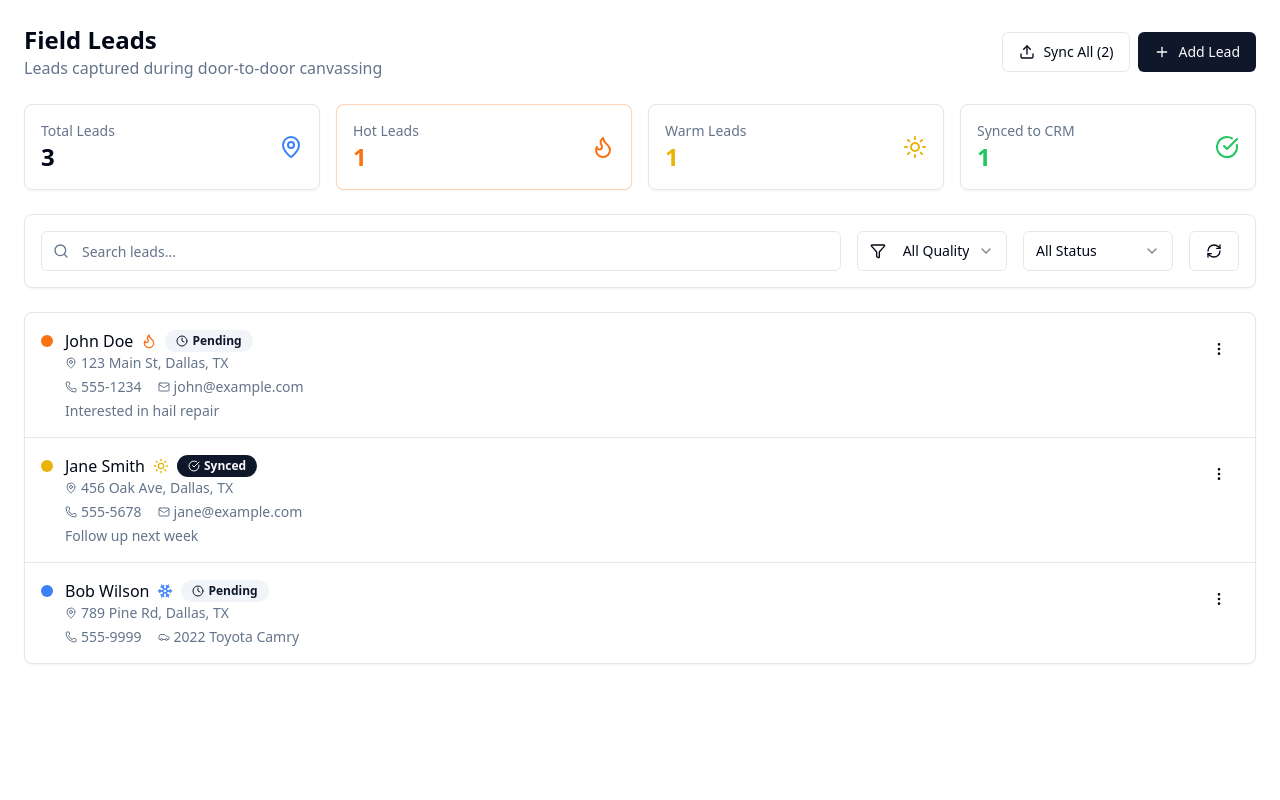
it: FieldLeadsPage › Search Functionality › filters leads by address
Expected: the text "John Doe" is shown, [65,329,133,353]
Step 1. Type "Oak" into the field with placeholder "Search leads..." → (441,251), box [41,231,841,271]
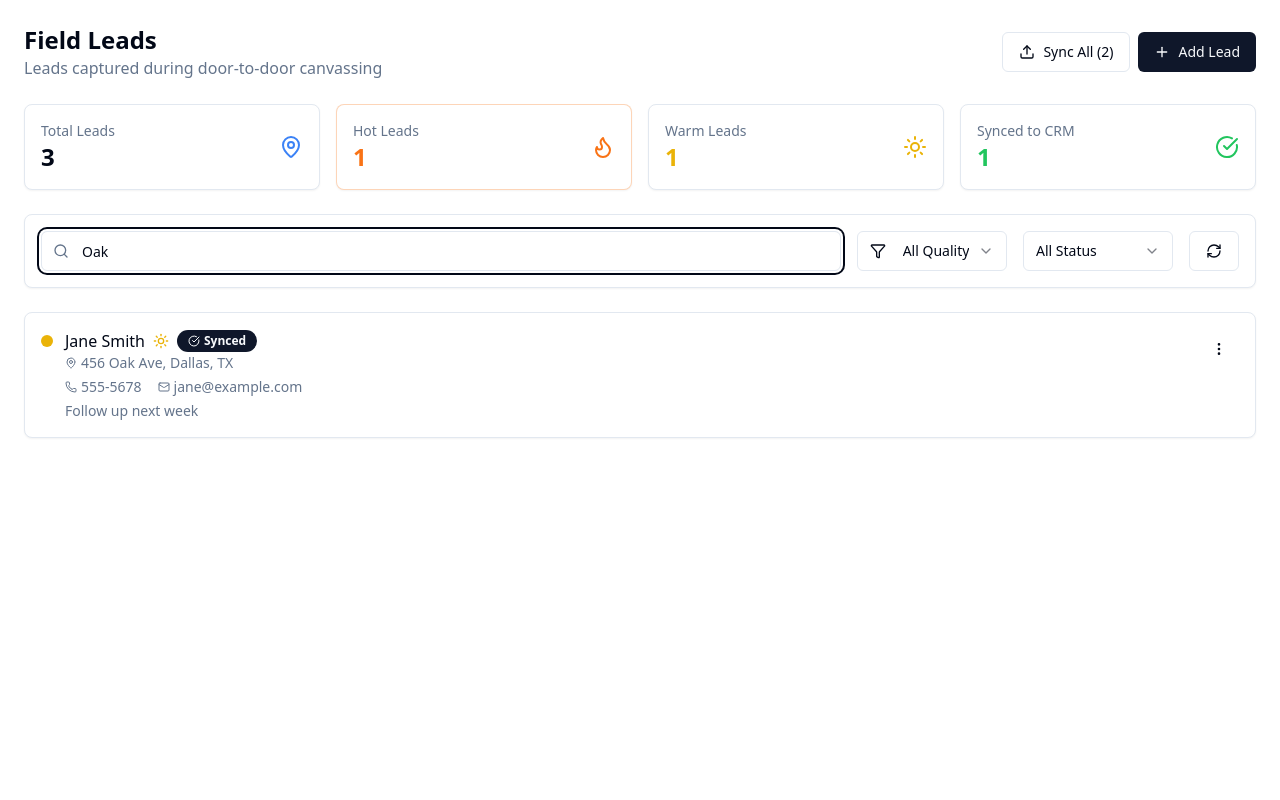
Expected: the text "Jane Smith" is shown, [65,329,145,353]
Now the text "John Doe" is gone
